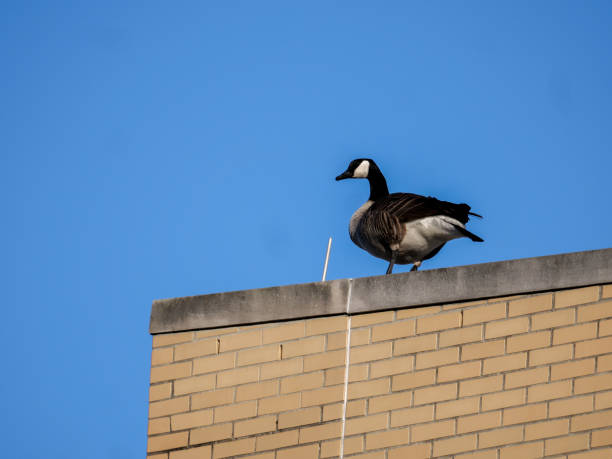goose: (332, 155, 487, 276)
